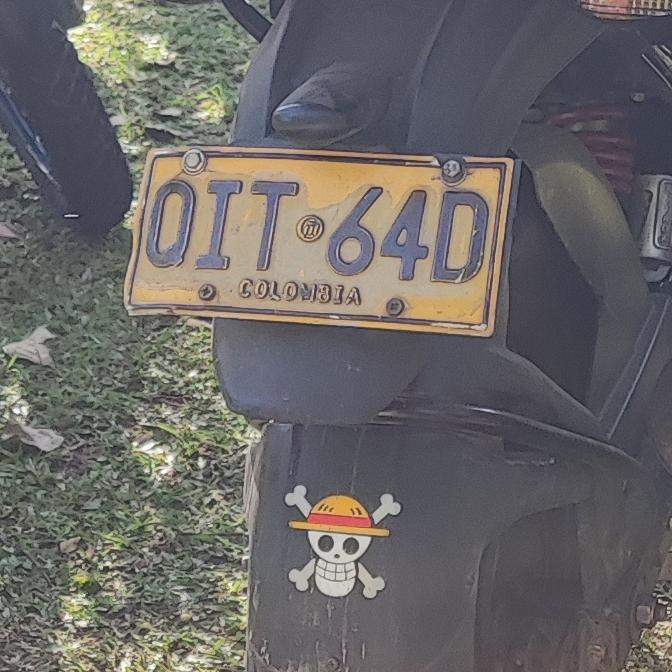plates: (117, 144, 508, 327)
